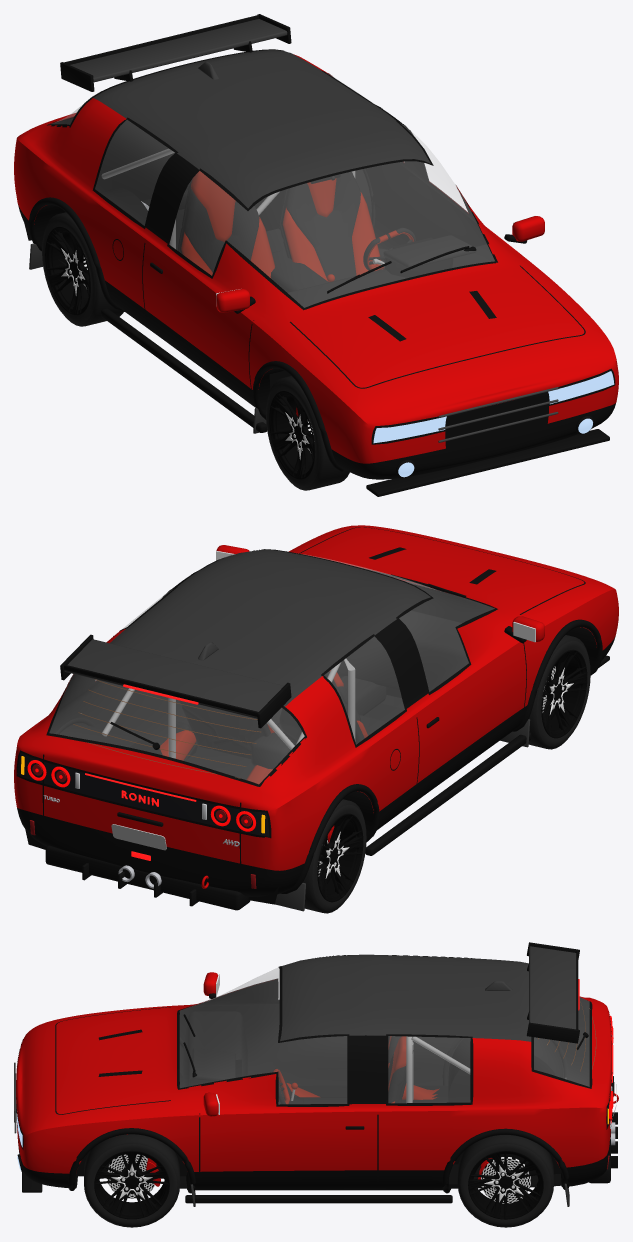
File: ronin.glb
3 views of the same model, one above another, from view 1: azimuth 30°, elevation 25°; view 2: azimuth 150°, elevation 25°; view 3: azimuth 270°, elevation 25° (orthographic). The views are drawn at different scales.
Visible parts, largest first — view 1: BodyShell, InteriorLining, InteriorSeatLSeatsColor2, BodyRoofWing, BodyWindowTrim, InteriorBulkhead, InteriorSeatLSeatsColor1, BodySplitter, Wheel_RR_Rim, Wheel_FR_Rim, InteriorSeatRSeatsColor1, InteriorSeatRSeatsColor2 (+14 smaller); view 2: BodyShell, BodyRoofWing, InteriorLining, InteriorDashTop, BodyWindowTrim, BodyDiffuser, Wheel_FR_Rim, Wheel_RR_Rim, InteriorSeatLSeatsFrame1, BodySkirt.001, InteriorConsole, Wheel_FR_Tire (+15 smaller); view 3: BodyShell, InteriorLining, BodyRoofWing, Wheel_FL_Tire, Wheel_RL_Tire, Wheel_FL_Rim, Wheel_RL_Rim, BodyWindowTrim, InteriorDashTop, BodySkirt, InteriorBinnacle, BodyArchLipFL (+12 smaller).
Part boxes in pixels (x1,y1,x2,y2): BodyShell: [14, 50, 618, 479]; InteriorLining: [51, 74, 486, 266]; InteriorSeatLSeatsColor2: [286, 171, 387, 282]; BodyRoofWing: [70, 19, 287, 82]; BodyWindowTrim: [47, 49, 497, 310]; InteriorBulkhead: [24, 118, 189, 240]; InteriorSeatLSeatsColor1: [282, 178, 383, 281]; BodySplitter: [366, 429, 609, 496]; Wheel_RR_Rim: [45, 227, 90, 315]; Wheel_FR_Rim: [269, 391, 315, 479]; InteriorSeatRSeatsColor1: [181, 171, 275, 277]; InteriorSeatRSeatsColor2: [184, 188, 259, 272]; BodyShell: [14, 525, 618, 897]; BodyRoofWing: [64, 639, 283, 718]; InteriorLining: [49, 589, 404, 869]; InteriorDashTop: [337, 610, 468, 691]; BodyWindowTrim: [46, 549, 497, 786]; BodyDiffuser: [45, 845, 250, 910]; Wheel_FR_Rim: [541, 649, 587, 738]; Wheel_RR_Rim: [317, 813, 363, 902]; InteriorSeatLSeatsFrame1: [179, 700, 269, 760]; BodySkirt.001: [365, 732, 531, 855]; InteriorConsole: [251, 676, 386, 769]; Wheel_FR_Tire: [528, 635, 590, 749]; BodyShell: [16, 954, 611, 1190]; InteriorLining: [179, 979, 589, 1188]; BodyRoofWing: [529, 946, 576, 1029]; Wheel_FL_Tire: [84, 1134, 180, 1227]; Wheel_RL_Tire: [457, 1135, 553, 1227]; Wheel_FL_Rim: [94, 1150, 169, 1219]; Wheel_RL_Rim: [468, 1151, 543, 1219]; BodyWindowTrim: [177, 955, 592, 1106]; InteriorDashTop: [183, 1011, 247, 1087]; BodySkirt: [185, 1195, 452, 1203]; InteriorBinnacle: [192, 1048, 235, 1081]; BodyArchLipFL: [68, 1128, 195, 1193].
Bounding box in the file's own units: 2.18 × 1.48 × 4.21.
Materials: 35 (2 with a texture image).
